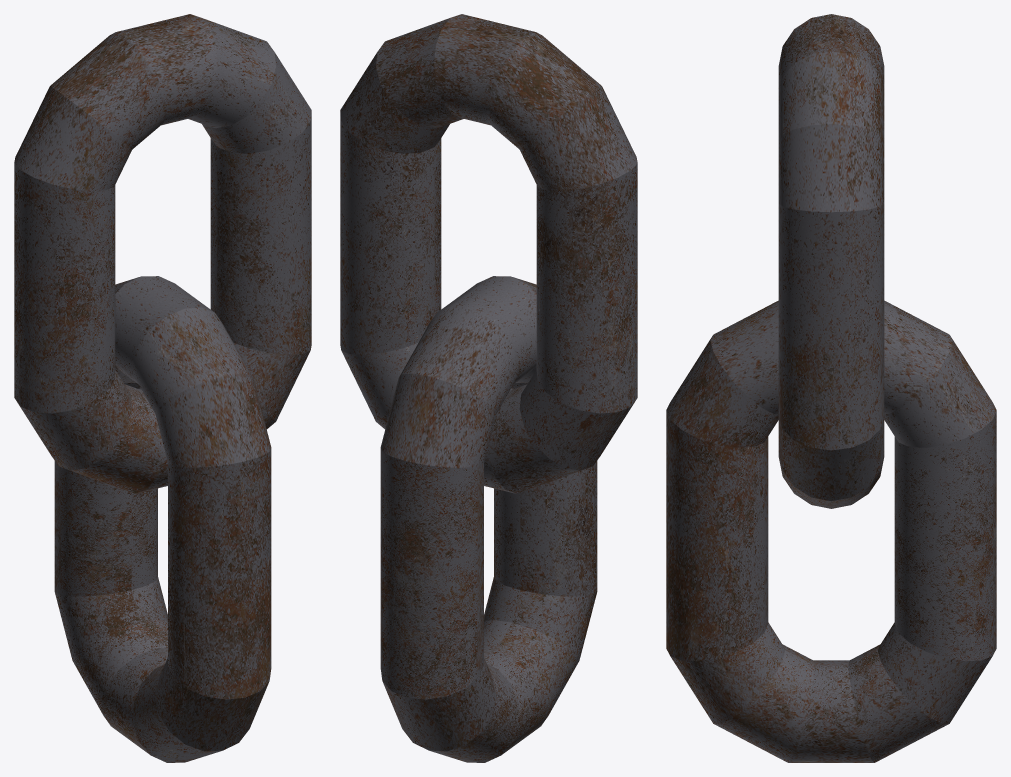
The model's file is iron_chain.glb.
3 views of the same model, side by side, from view 1: azimuth 30°, elevation 25°; view 2: azimuth 150°, elevation 25°; view 3: azimuth 270°, elevation 25° (orthographic).
Parts seen in each view (by area): view 1: _Asset_Buildings_link:_chainLink_; view 2: _Asset_Buildings_link:_chainLink_; view 3: _Asset_Buildings_link:_chainLink_.
Part boxes in pixels (left/top/right/bottom): _Asset_Buildings_link:_chainLink_: left=14, top=14, right=311, bottom=762; _Asset_Buildings_link:_chainLink_: left=340, top=14, right=637, bottom=762; _Asset_Buildings_link:_chainLink_: left=666, top=14, right=996, bottom=762.
Size of the model in its own units: 0.1565 by 0.3788 by 0.1565.
Materials: 1 (1 with a texture image).
